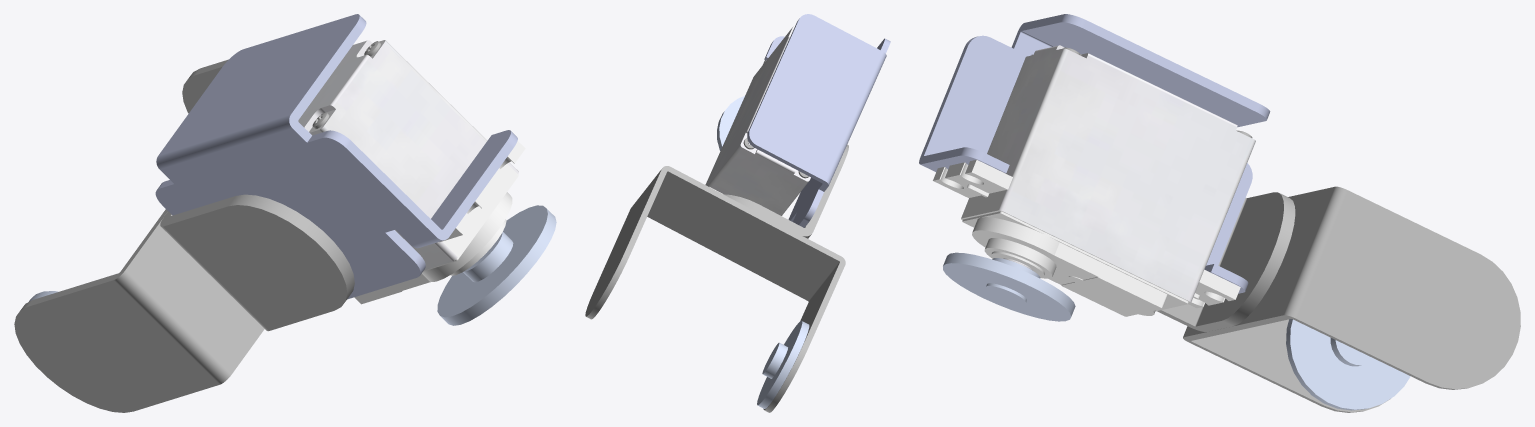
The model's file is r_forearmC_link.dae.
3 views of the same model, side by side, from view 1: azimuth 30°, elevation 25°; view 2: azimuth 150°, elevation 25°; view 3: azimuth 270°, elevation 25° (orthographic). The views are drawn at different scales.
Parts seen in each view (by area): view 1: Actor0; view 2: Actor0; view 3: Actor0.
Part boxes in pixels (x1,y1,x2,y2): Actor0: [14, 14, 556, 412]; Actor0: [585, 14, 890, 412]; Actor0: [919, 14, 1520, 412].
Bounding box in the file's own units: 0.0598 × 0.0845 × 0.1044.
7 materials, 2 textured.
